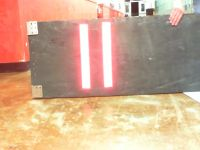switch: (101, 22, 113, 88), (80, 24, 91, 88)
